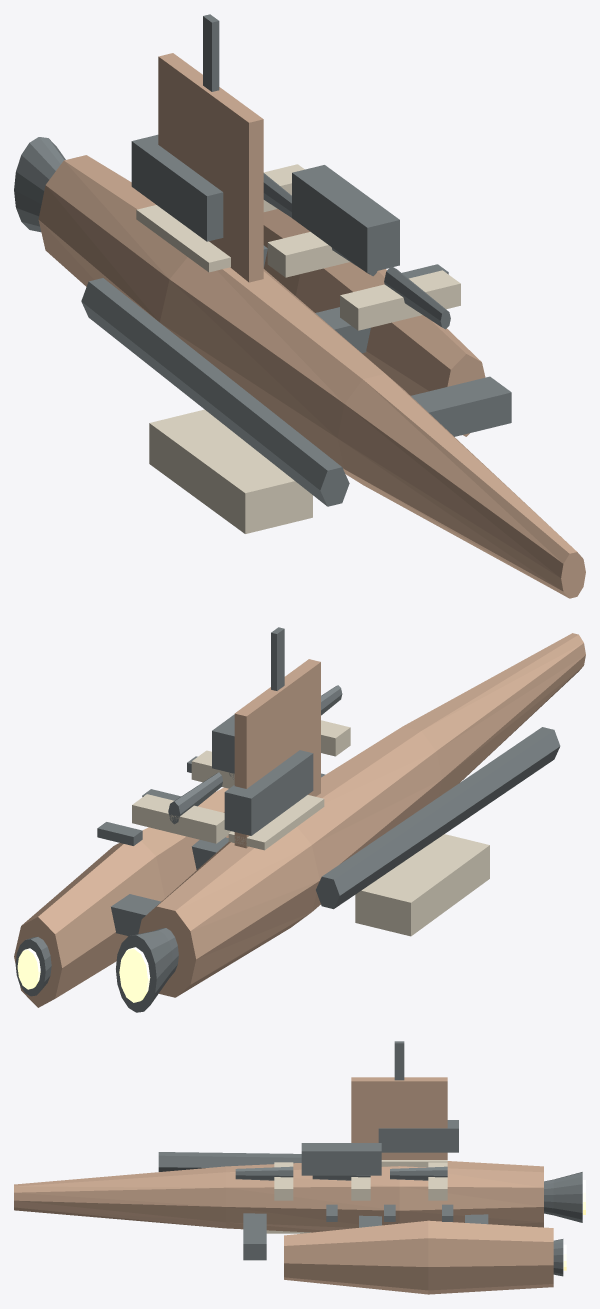
The picture shows the model from 3 angles, top to bottom: view 1: azimuth 30°, elevation 25°; view 2: azimuth 150°, elevation 25°; view 3: azimuth 270°, elevation 25°; orthographic projection. The views are drawn at different scales.
Bounding box in the file's own units: 5.53 × 7.08 × 17.13.
